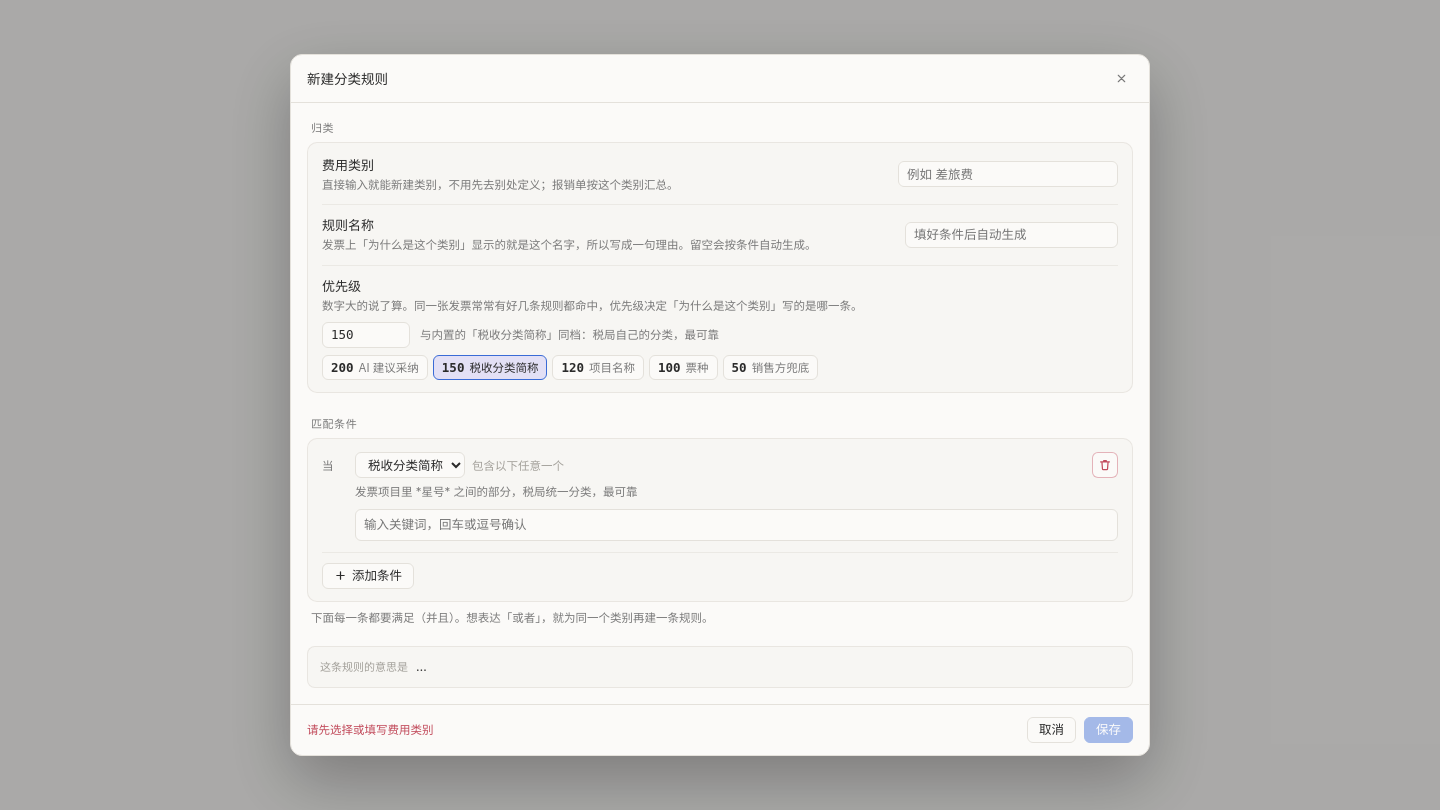
RuleEditor › will not save a rule with no conditions at all
Type "住宿" into the field with placeholder "例如 差旅费" at (1008,174), box [898,161,1118,187]
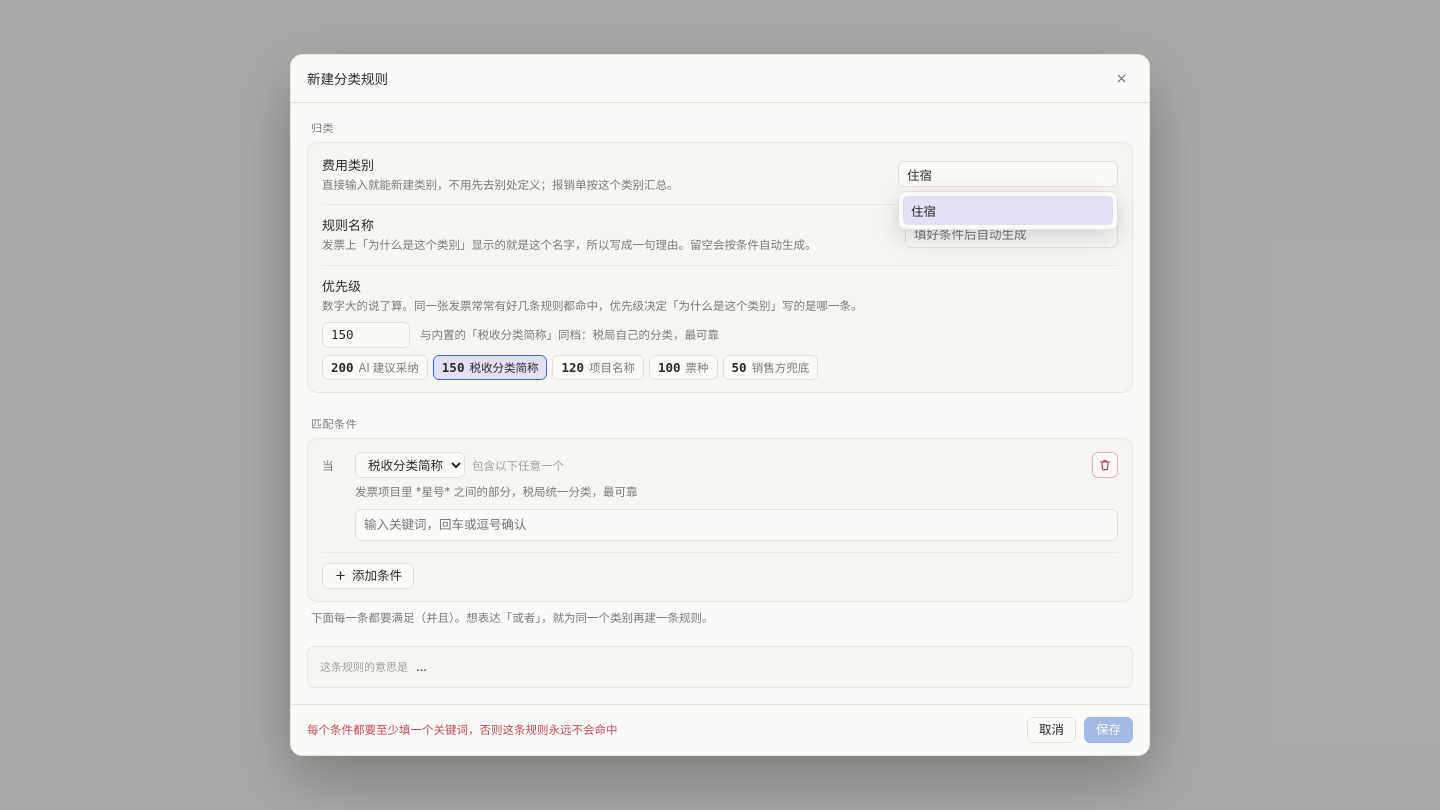
Type "住宿服务" into the field labelled "关键词" at (736,525), box [362,515,1111,535]
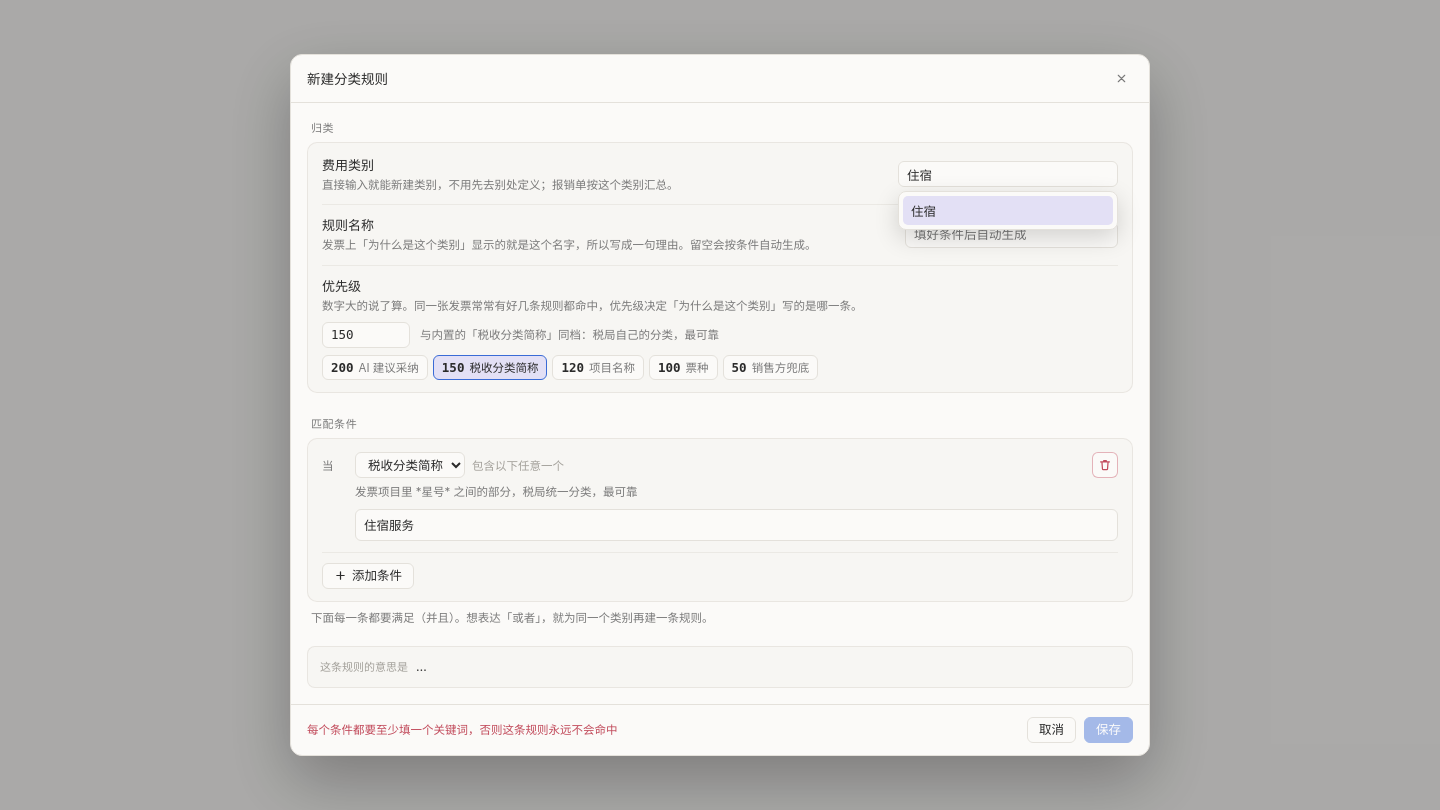
Press Enter in the field named "关键词", box [362,515,1111,535]
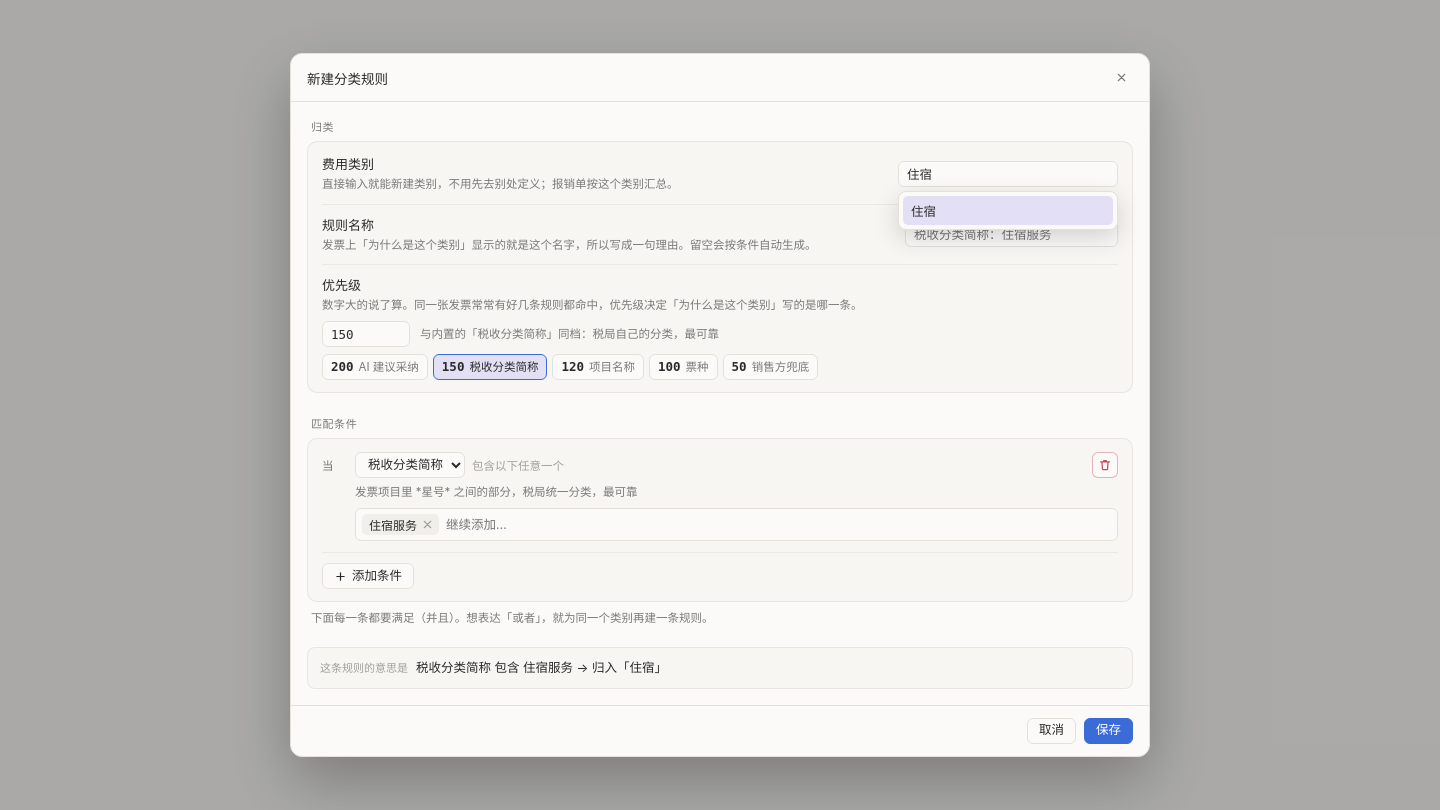
Expected: the button "保存" is enabled, [1084,718,1133,744]
Click the button named "删除这个条件" at (1105,465), box [1092,452,1118,478]
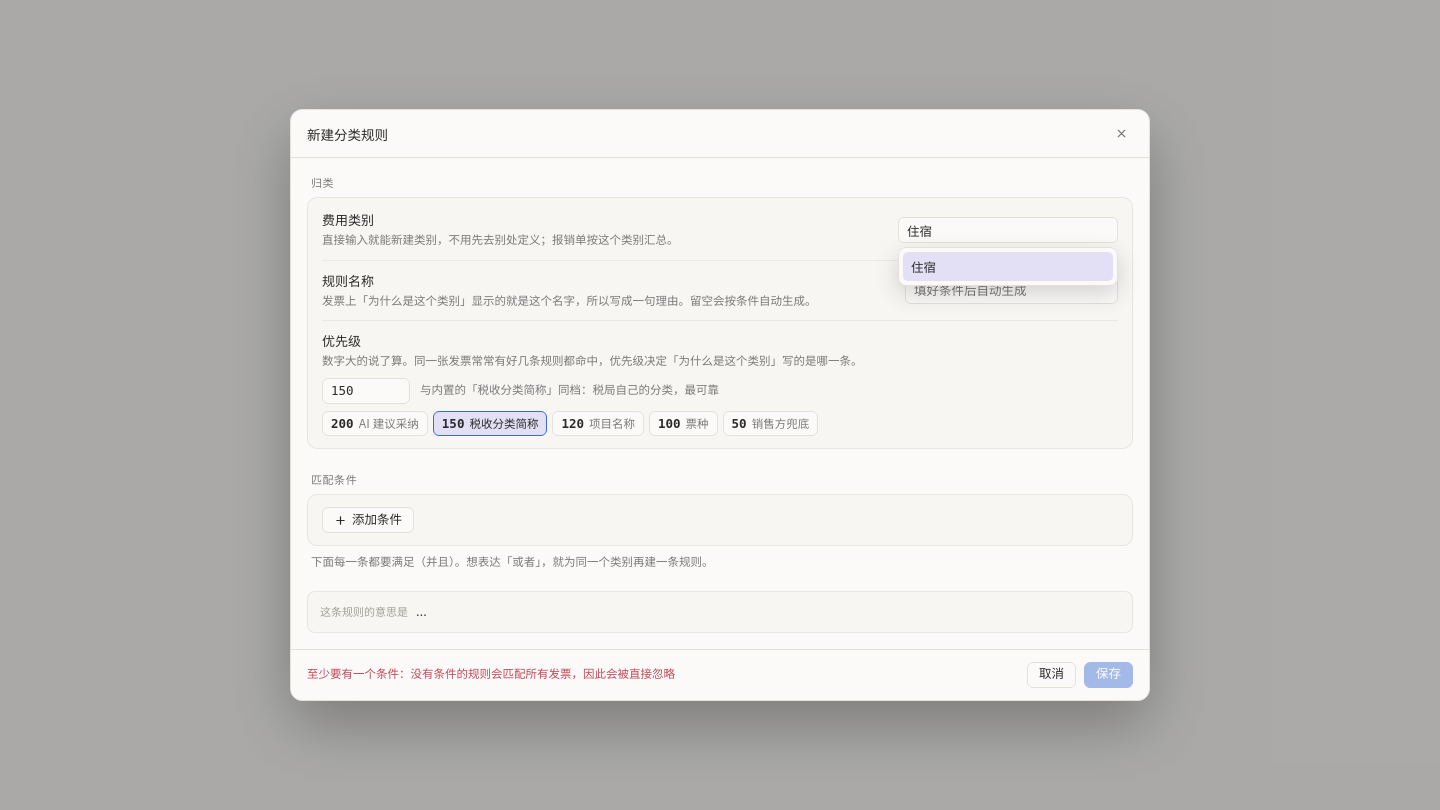
Expected: the button "保存" is disabled, [1084,662,1133,688]
Expected: the text "至少要有一个条件：没有条件的规则会匹配所有发票，因此会被直接忽略" is shown, [307,666,675,683]
